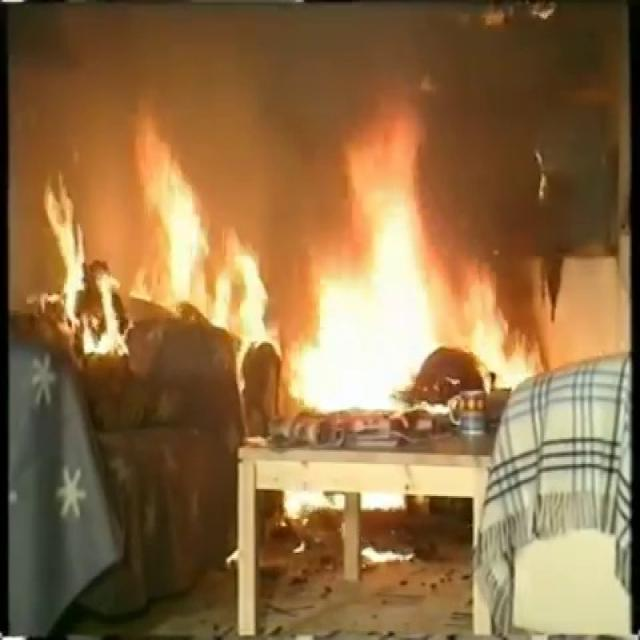Fire: (280, 84, 546, 416), (129, 96, 281, 393), (39, 170, 135, 358)
